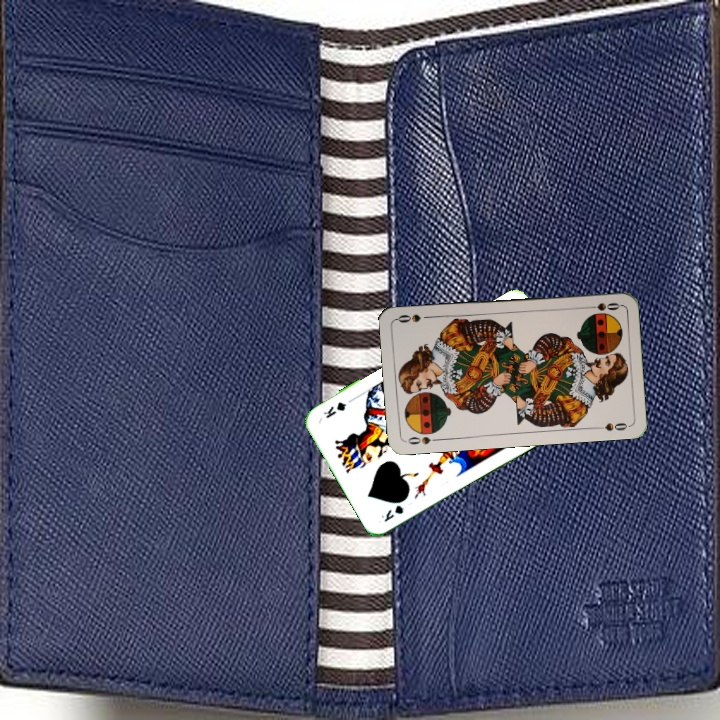GK: (377, 501, 406, 525)
SO: (582, 298, 622, 313), (402, 433, 443, 447)
